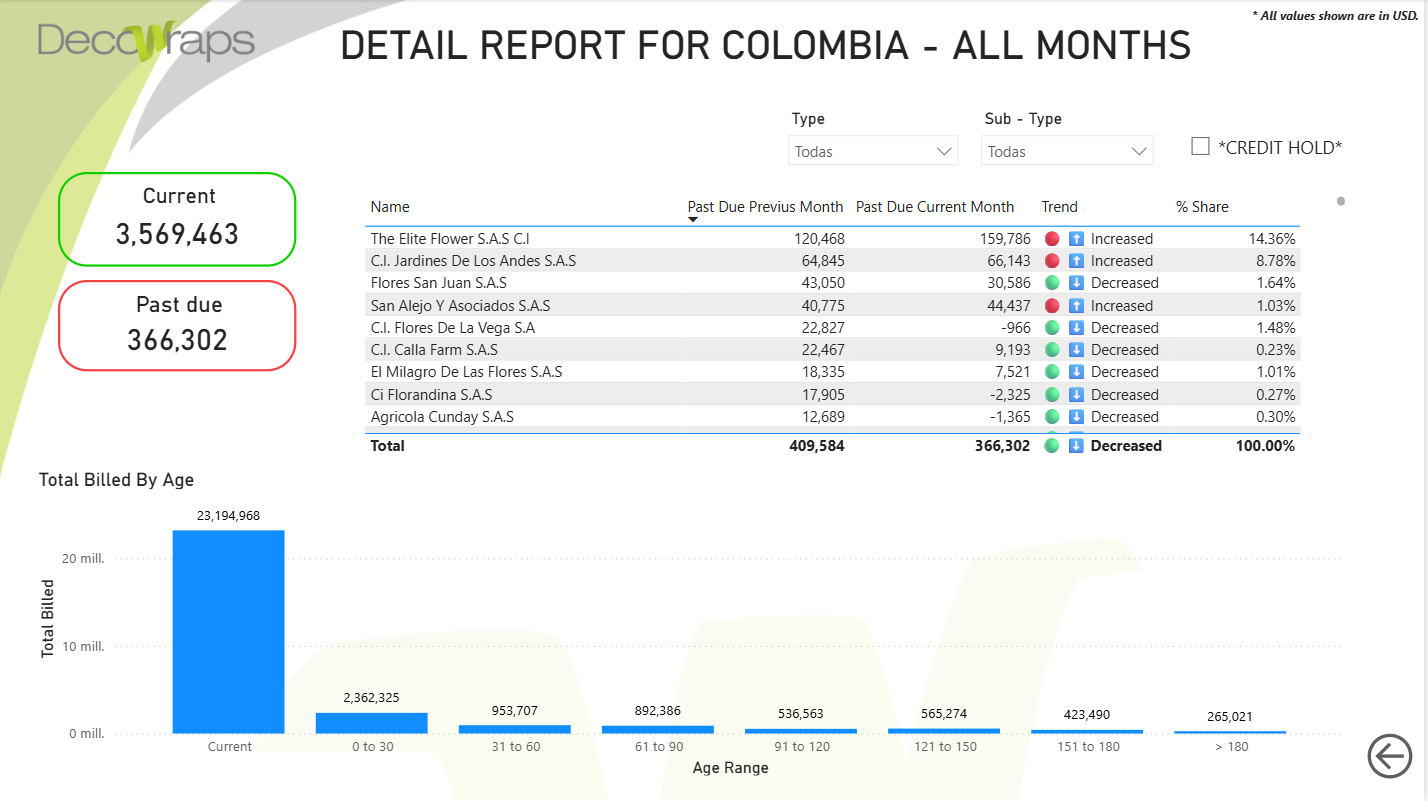

What the dashboard file says about the page in this screenshot:
{"tool":"powerbi","page":{"name":"Detail","canvas":[1280,720],"ordinal":1},"visuals":[{"type":"slicer","fields":{"Values":["Dim_Tipo.Subtipo"]},"box":[872,94,174.5,62.7],"z":0},{"type":"slicer","fields":{"Values":["Consolidado.HOLD"]},"box":[1057.7,113.4,222.3,41.8],"z":1000},{"type":"actionButton","box":[1223.1,653.1,52,54.5],"z":2000},{"type":"columnChart","title":"Total Billed By Age","fields":{"Category":["Dim_Rangos.Rango"],"Y":["Sum(Consolidado.Valor)"]},"box":[30.8,420.8,1183.8,281.4],"z":3000},{"type":"card","title":"Current","fields":{"Values":["Medidas Tarjetas.Saldo Vigente Mes Actual"]},"box":[53,155.1,214,85.1],"z":4000},{"type":"card","title":"Past due","fields":{"Values":["Medidas Tarjetas.Saldo Vencido Mes Actual"]},"box":[53,252.1,214.1,82.1],"z":5000},{"type":"tableEx","fields":{"Values":["Consolidado.Name","Tabla Comparativa Clientes.Vencido Mes Anterior 2","Tabla Comparativa Clientes.Saldo Vencido Cliente Actual","Tabla Comparativa Clientes.Status Cliente","Tabla Comparativa Clientes.% Vencido sobre Cartera"]},"box":[322.2,171.6,892.3,242.9],"z":6000},{"type":"card","fields":{"Values":["Medidas Tarjetas.Titulo Detalle Completo"]},"box":[160.3,0,1054.9,75.9],"z":7000},{"type":"image","box":[30.8,0,203.5,75.9],"z":8000},{"type":"slicer","fields":{"Values":["Dim_Tipo.Tipo_Base"]},"box":[698.9,94.2,172.8,62.8],"z":9000},{"type":"textbox","box":[1094.7,0,185.3,27.3],"z":10000}]}

Visuals, with their boxes in screenshot pixels (x1, y1, x2, y2), scaled from the page's 1280x720 canvas onto the 1428x801 screenshot:
slicer - Dim_Tipo.Subtipo: <bbox>973, 105, 1168, 174</bbox>
slicer - Consolidado.HOLD: <bbox>1180, 126, 1427, 173</bbox>
actionButton: <bbox>1365, 727, 1423, 787</bbox>
"Total Billed By Age" columnChart: <bbox>34, 468, 1355, 781</bbox>
"Current" card: <bbox>59, 173, 298, 267</bbox>
"Past due" card: <bbox>59, 280, 298, 372</bbox>
tableEx - Consolidado.Name x Tabla Comparativa Clientes.Vencido Mes Anterior 2: <bbox>359, 191, 1355, 461</bbox>
card - Medidas Tarjetas.Titulo Detalle Completo: <bbox>179, 0, 1356, 84</bbox>
image: <bbox>34, 0, 261, 84</bbox>
slicer - Dim_Tipo.Tipo_Base: <bbox>780, 105, 972, 175</bbox>
textbox: <bbox>1221, 0, 1427, 30</bbox>
